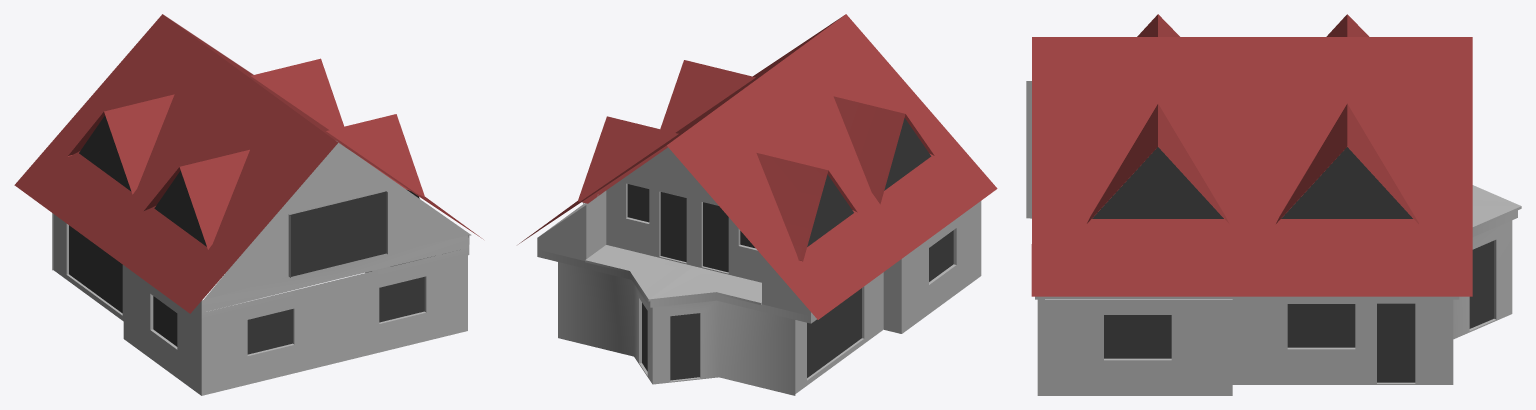
Rendered from house2.obj.
3 views of the same model, side by side, from view 1: azimuth 30°, elevation 25°; view 2: azimuth 150°, elevation 25°; view 3: azimuth 270°, elevation 25° (orthographic). The views are drawn at different scales.
Parts seen in each view (by area): view 1: g1_object, g0; view 2: g1_object; view 3: g1_object.
Part boxes in pixels (x1,y1,x2,y2): g1_object: (14,14,483,395); g0: (204,141,471,299); g1_object: (518,14,997,395); g1_object: (1026,14,1521,395).
Bounding box in the file's own units: 46.92 × 33.6 × 54.23.
